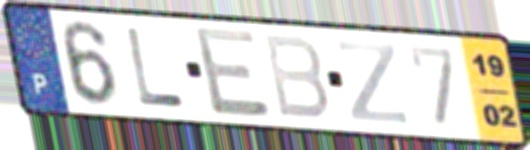6: (58, 17, 123, 110)
7: (404, 43, 459, 130)
B: (259, 31, 332, 122)
E: (190, 23, 275, 119)
L: (123, 25, 188, 111)
Z: (335, 37, 411, 127)
